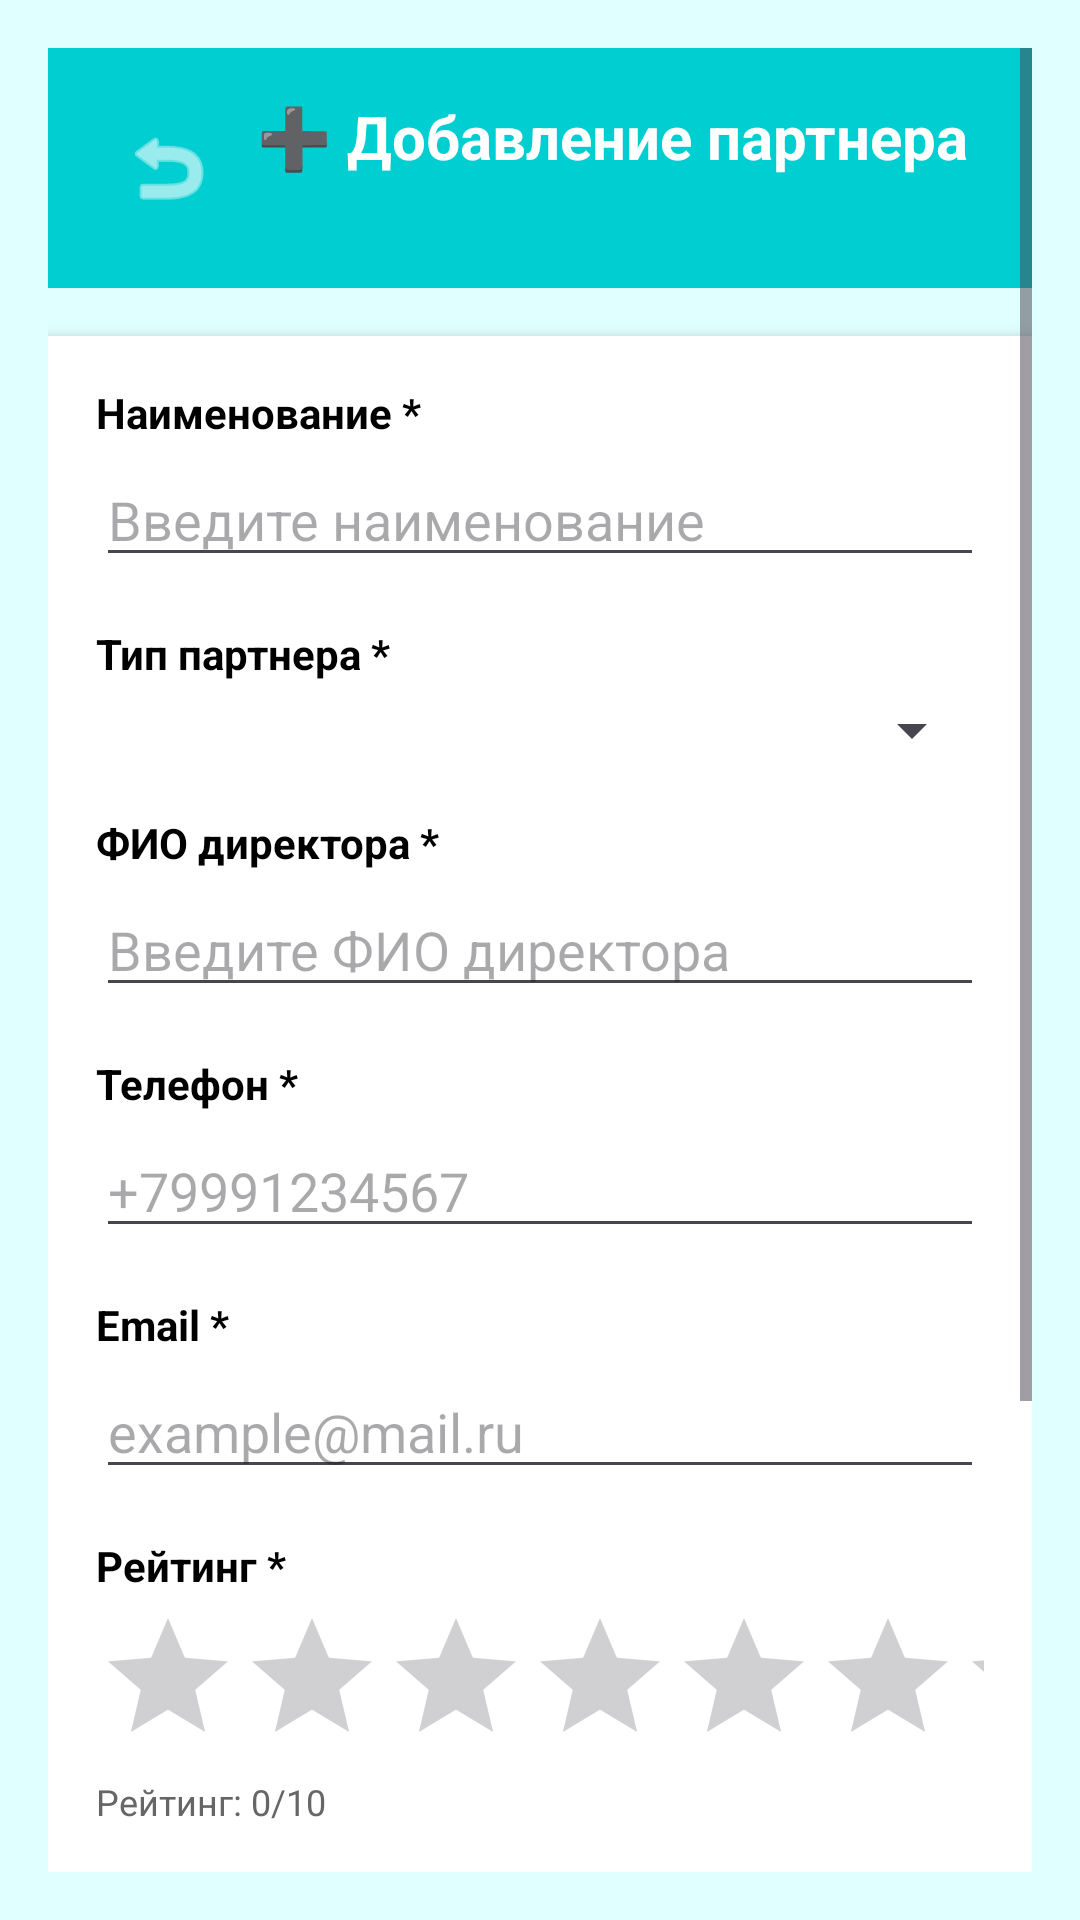

Where icons sit on this 1080px x 1920px app screen, as (x1, y1, x2, y2):
revert: (135, 137, 204, 200)
